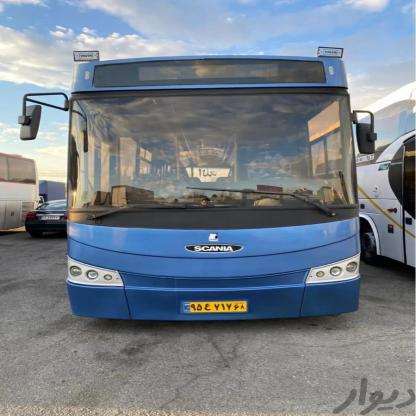Bus: (63, 63, 370, 314), (356, 84, 416, 274), (0, 145, 45, 233), (12, 195, 70, 240)
